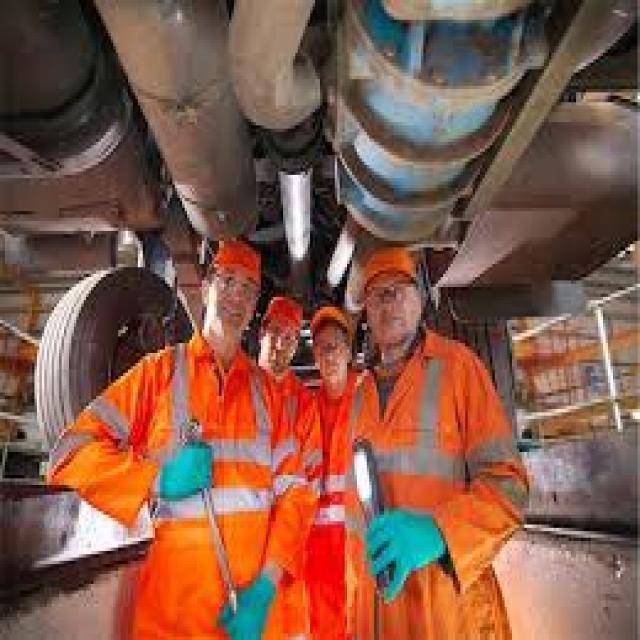reflective_jacket: (347, 332, 532, 584), (134, 337, 282, 597), (36, 337, 180, 531)
